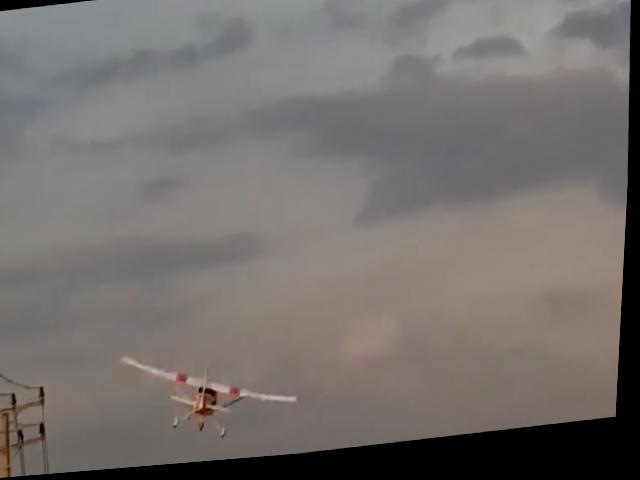plane: (122, 342, 308, 443)
